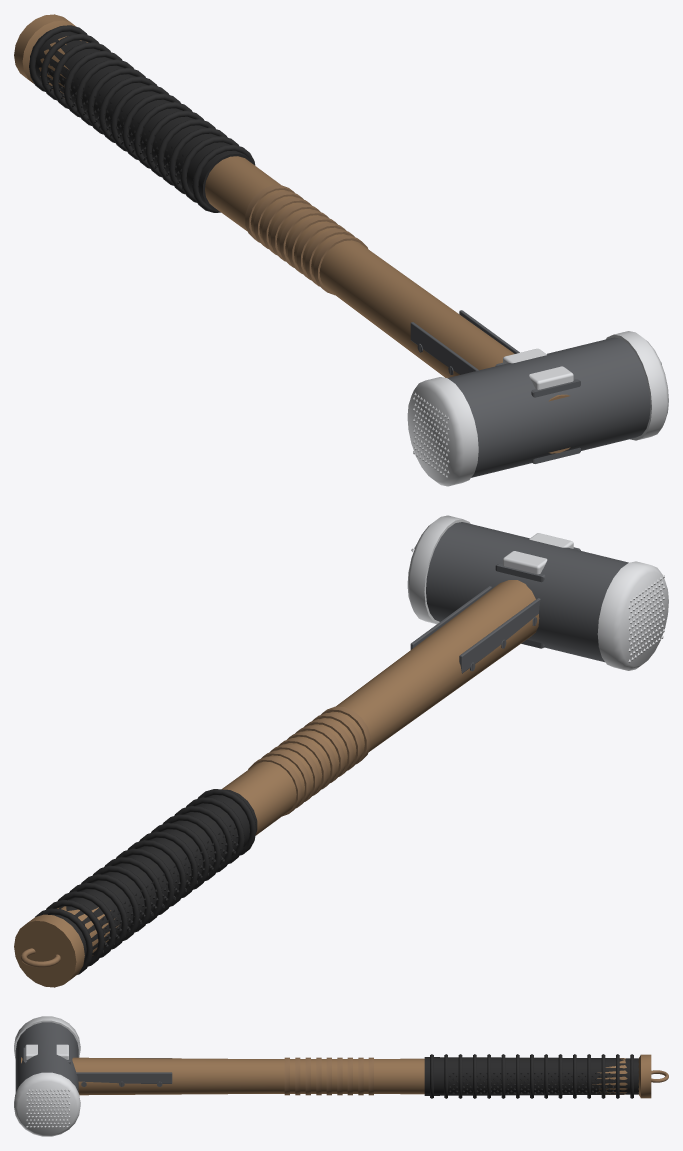
Rendered from sledgehammer.glb.
The picture shows the model from 3 angles, top to bottom: view 1: azimuth 30°, elevation 25°; view 2: azimuth 150°, elevation 25°; view 3: azimuth 270°, elevation 25°; orthographic projection. The views are drawn at different scales.
Visible parts, largest first — view 1: sledgehammer; view 2: sledgehammer; view 3: sledgehammer.
Boxes of the visible parts, x1=… form: sledgehammer: x1=14, y1=14, x2=668, y2=486; sledgehammer: x1=14, y1=515, x2=668, y2=987; sledgehammer: x1=14, y1=1016, x2=668, y2=1136.
Size of the model in its own units: 0.1762 by 0.0752 by 0.7481.
